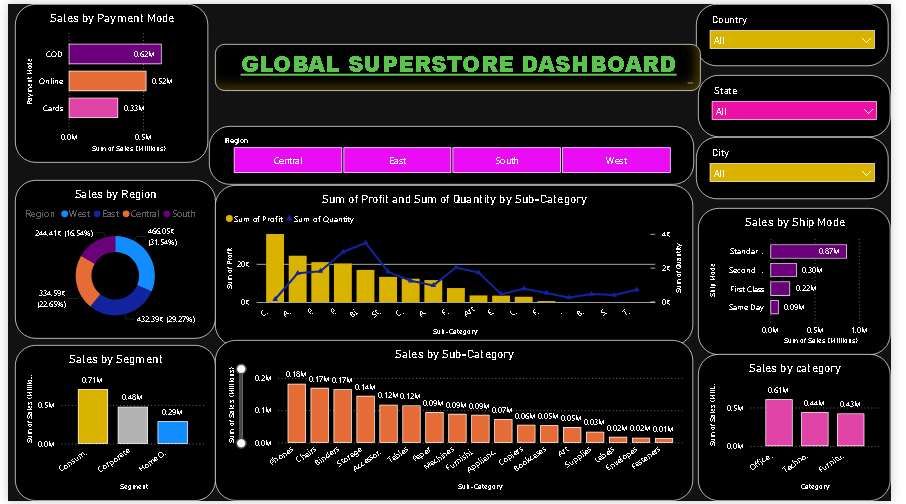

What the dashboard file says about the page in this screenshot:
{"tool":"powerbi","page":{"name":"Page 1","canvas":[1280,720],"ordinal":0},"visuals":[{"type":"barChart","title":" Sales by Payment Mode","fields":{"Category":["SuperStore_Sales_Dataset.Payment Mode"],"Y":["Sum(SuperStore_Sales_Dataset.Sales)"]},"box":[10.1,0,280.5,229.9],"z":0},{"type":"donutChart","title":"Sales by Region","fields":{"Category":["SuperStore_Sales_Dataset.Region"],"Y":["Sum(SuperStore_Sales_Dataset.Sales)"]},"box":[10.1,254.5,290.6,229.9],"z":1},{"type":"clusteredColumnChart","title":"Sales by Segment","fields":{"Category":["SuperStore_Sales_Dataset.Segment"],"Y":["Sum(SuperStore_Sales_Dataset.Sales)"]},"box":[10,494,291,226],"z":2},{"type":"slicer","fields":{"Values":["SuperStore_Sales_Dataset.Region"]},"box":[290.6,176.4,702.7,85.3],"z":3},{"type":"lineStackedColumnComboChart","fields":{"Y":["Sum(SuperStore_Sales_Dataset.Profit)"],"Category":["SuperStore_Sales_Dataset.Sub-Category"],"Y2":["Sum(SuperStore_Sales_Dataset.Quantity)"]},"box":[300.7,261.7,692.5,232.8],"z":4},{"type":"clusteredColumnChart","title":"Sales by Sub-Category","fields":{"Y":["Sum(SuperStore_Sales_Dataset.Sales)"],"Category":["SuperStore_Sales_Dataset.Sub-Category"]},"box":[300.7,487.2,692.5,232.8],"z":5},{"type":"slicer","fields":{"Values":["SuperStore_Sales_Dataset.Country"]},"box":[997.6,0,279,89.6],"z":6},{"type":"slicer","fields":{"Values":["SuperStore_Sales_Dataset.State"]},"box":[1000.5,102.7,279,89.6],"z":7},{"type":"slicer","fields":{"Values":["SuperStore_Sales_Dataset.City"]},"box":[997.6,192.3,279,89.6],"z":8},{"type":"barChart","title":"Sales by Ship Mode","fields":{"Category":["SuperStore_Sales_Dataset.Ship Mode"],"Y":["Sum(SuperStore_Sales_Dataset.Sales)"]},"box":[1000.5,294.9,279,212.5],"z":9},{"type":"clusteredColumnChart","title":"Sales by category","fields":{"Y":["Sum(SuperStore_Sales_Dataset.Sales)"],"Category":["SuperStore_Sales_Dataset.Category"]},"box":[1000.5,507.5,279,212.5],"z":10},{"type":"textbox","title":"GLOBAL SUPERSTORE DASHBOARD","box":[300.7,57.8,704.1,68],"z":11}]}

Visuals, with their boxes in screenshot pixels (x1, y1, x2, y2), scaled from the page's 1280x720 canvas onto the 906x504 screenshot:
" Sales by Payment Mode" barChart: BBox(7, 0, 206, 161)
"Sales by Region" donutChart: BBox(7, 178, 213, 339)
"Sales by Segment" clusteredColumnChart: BBox(7, 346, 213, 503)
slicer - SuperStore_Sales_Dataset.Region: BBox(206, 123, 703, 183)
lineStackedColumnComboChart - Sum(SuperStore_Sales_Dataset.Profit) x SuperStore_Sales_Dataset.Sub-Category: BBox(213, 183, 703, 346)
"Sales by Sub-Category" clusteredColumnChart: BBox(213, 341, 703, 503)
slicer - SuperStore_Sales_Dataset.Country: BBox(706, 0, 904, 63)
slicer - SuperStore_Sales_Dataset.State: BBox(708, 72, 905, 135)
slicer - SuperStore_Sales_Dataset.City: BBox(706, 135, 904, 197)
"Sales by Ship Mode" barChart: BBox(708, 206, 905, 355)
"Sales by category" clusteredColumnChart: BBox(708, 355, 905, 503)
"GLOBAL SUPERSTORE DASHBOARD" textbox: BBox(213, 40, 711, 88)
